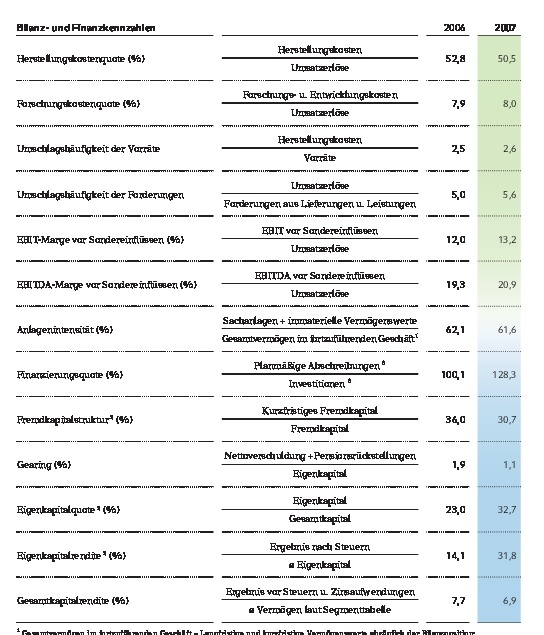table: (0, 0, 544, 635)
